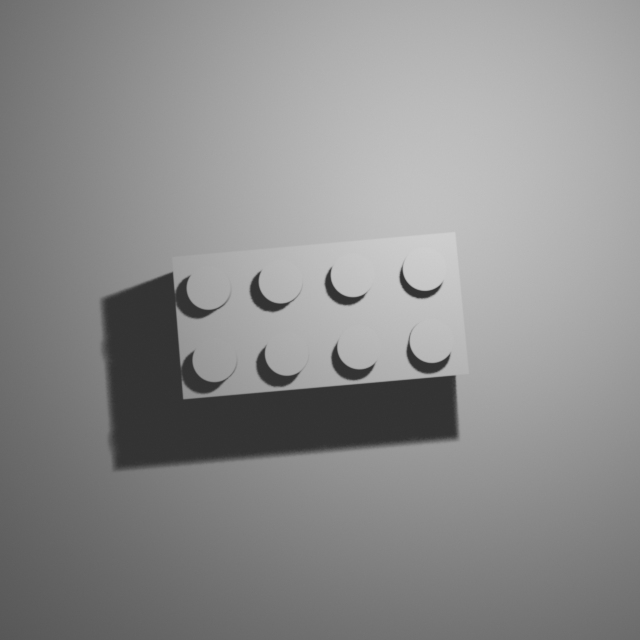lego_2x4: (170, 230, 471, 400)
